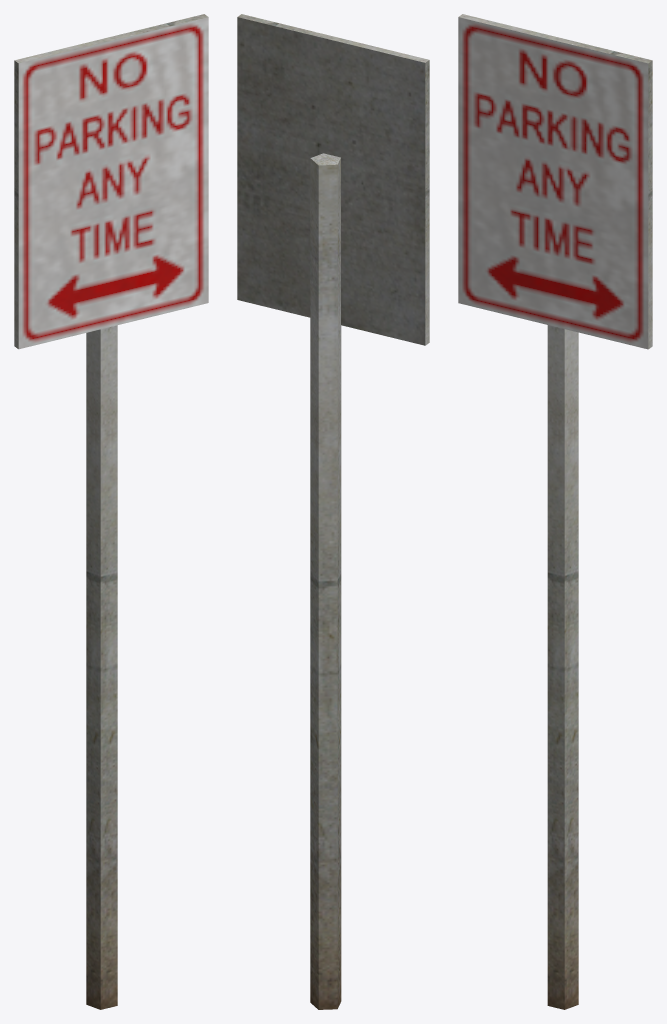
Rendered from noparking.fbx.
The picture shows the model from 3 angles, left to right: view 1: azimuth 30°, elevation 25°; view 2: azimuth 150°, elevation 25°; view 3: azimuth 330°, elevation 25°; orthographic projection.
Visible parts, largest first — view 1: Plane.008; view 2: Plane.008; view 3: Plane.008.
Part boxes in pixels (bbox=[...]): Plane.008: bbox=[14, 14, 208, 1009]; Plane.008: bbox=[237, 14, 429, 1009]; Plane.008: bbox=[458, 14, 652, 1009].
Bounding box in the file's own units: 99.83 × 487 × 16.43.
